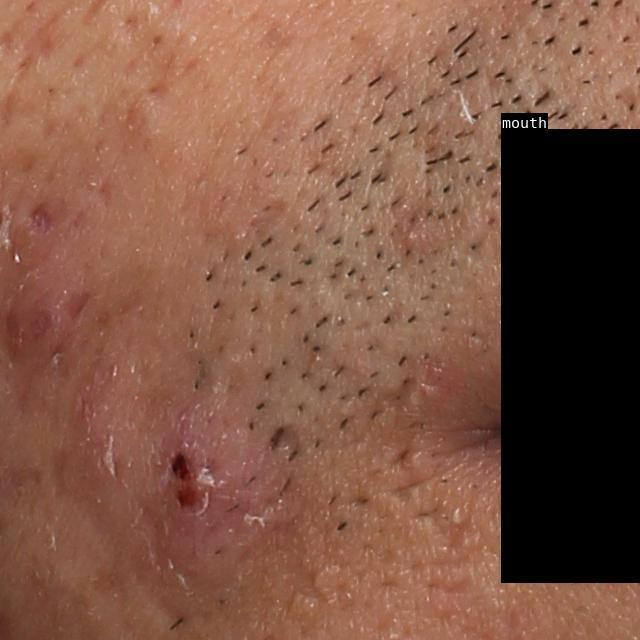atrophic_scar: (19, 9, 75, 80), (267, 420, 304, 464)
